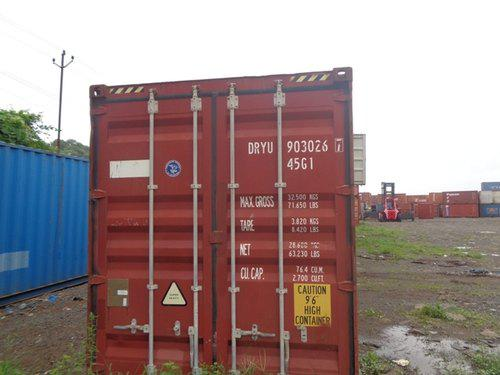ContainerNum: (246, 136, 344, 172)
